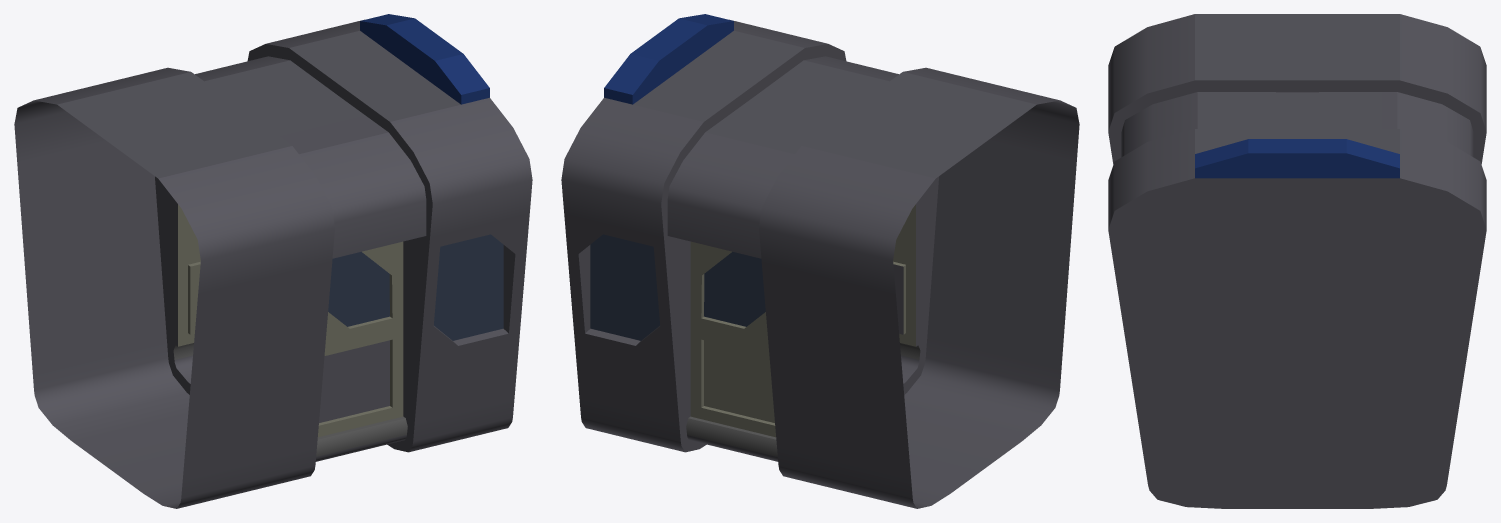
File: LPSciFi_CircularHubDoor.fbx
3 renders of one model, left to right at view 1: azimuth 30°, elevation 25°; view 2: azimuth 150°, elevation 25°; view 3: azimuth 270°, elevation 25°, orthographic.
Parts seen in each view (by area): view 1: CircularHubDoor; view 2: CircularHubDoor; view 3: CircularHubDoor.
Part boxes in pixels (<box>): CircularHubDoor: <box>14,14,532,508</box>; CircularHubDoor: <box>561,14,1079,508</box>; CircularHubDoor: <box>1108,14,1486,508</box>.
Size of the model in its own units: 400 by 404 by 390.
